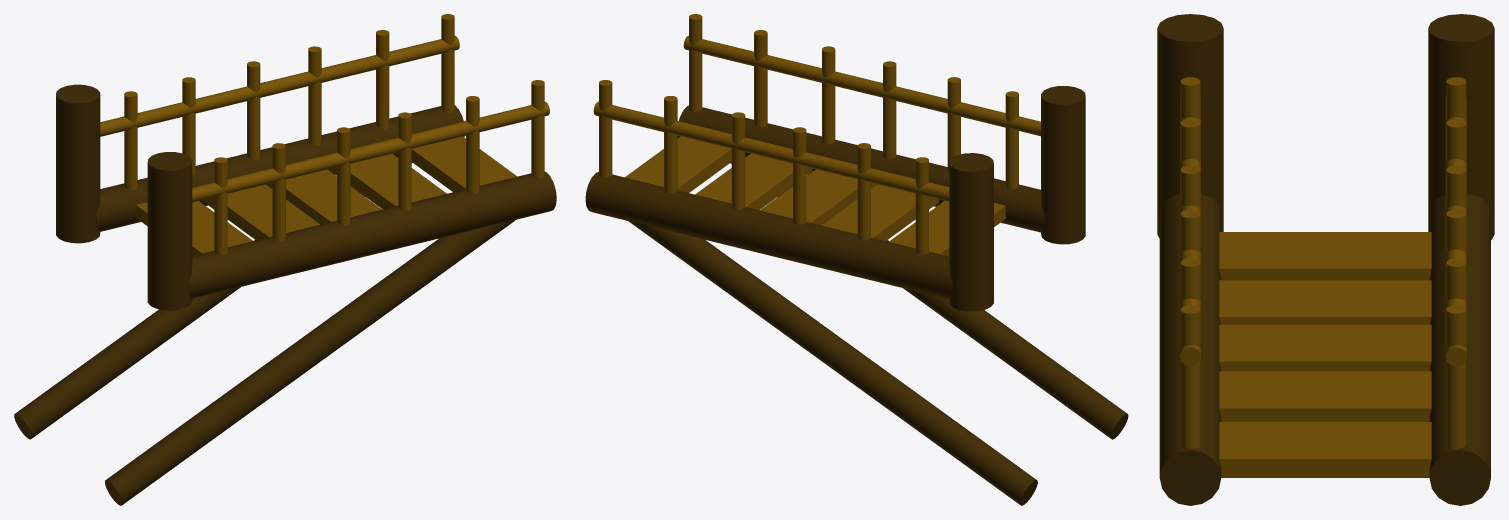
File: Bridge (fixed).fbx
3 views of the same model, side by side, from view 1: azimuth 30°, elevation 25°; view 2: azimuth 150°, elevation 25°; view 3: azimuth 270°, elevation 25° (orthographic). The views are drawn at different scales.
Visible parts, largest first — view 1: Bridge; view 2: Bridge; view 3: Bridge.
Part boxes in pixels (x1,y1,x2,y2): Bridge: (14,14,556,505); Bridge: (585,14,1128,505); Bridge: (1157,14,1494,505).
Bounding box in the file's own units: 242 × 110 × 175.
